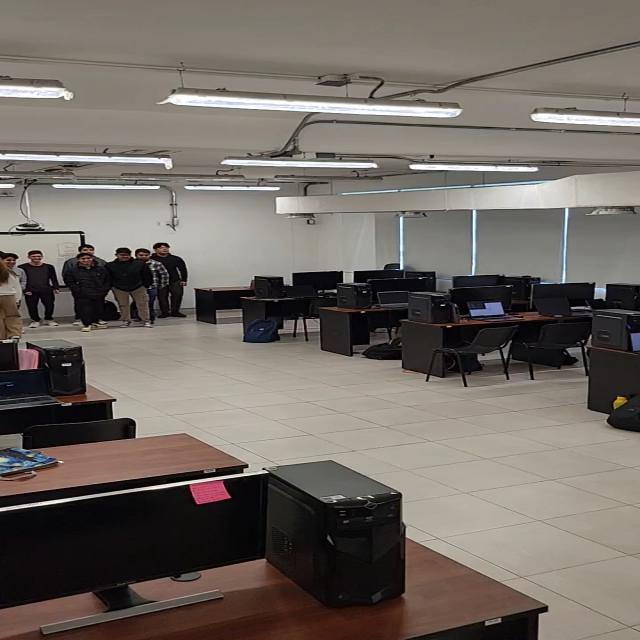Persona: (154, 239, 206, 324), (106, 248, 149, 322), (65, 252, 106, 323), (23, 250, 61, 320), (138, 247, 165, 291)
